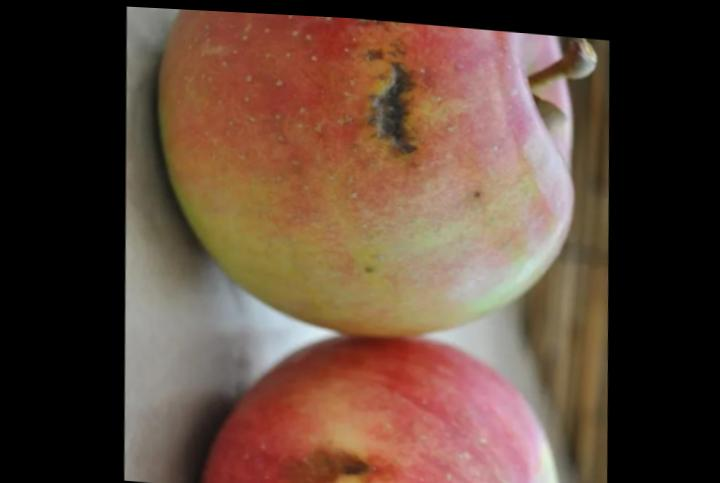apple: (159, 9, 596, 336), (201, 336, 559, 483)
surface_damage: (374, 62, 417, 153), (310, 443, 375, 483)
